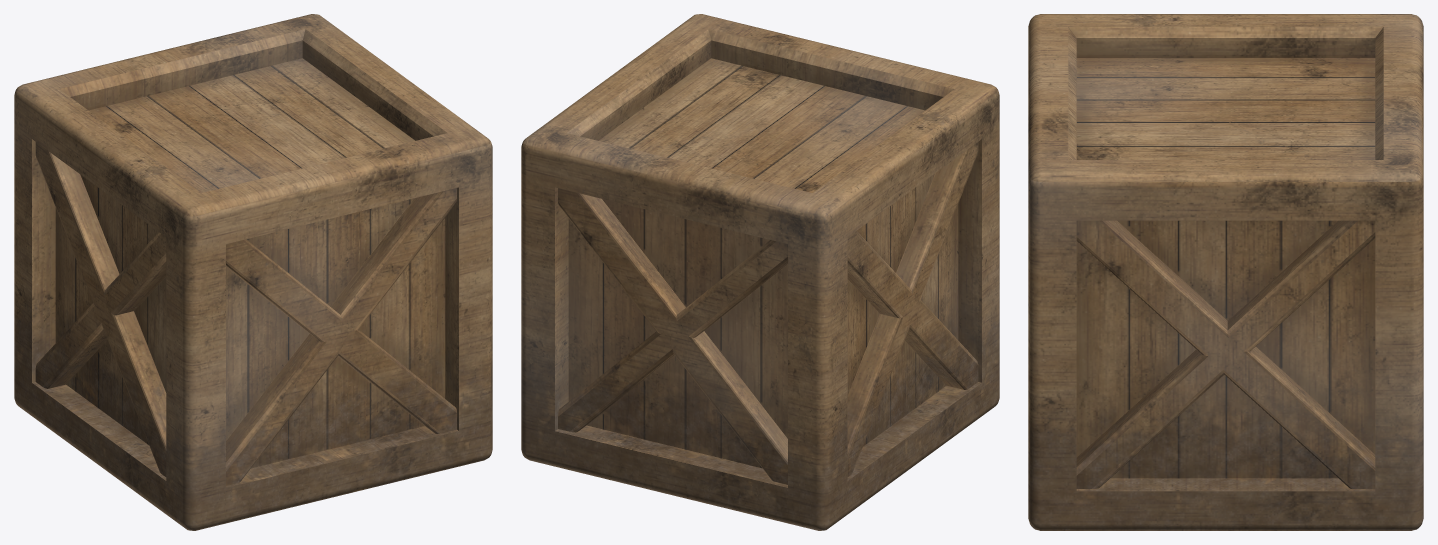
File: Wooden Crate.fbx
The picture shows the model from 3 angles, left to right: view 1: azimuth 30°, elevation 25°; view 2: azimuth 150°, elevation 25°; view 3: azimuth 270°, elevation 25°; orthographic projection. The views are drawn at different scales.
Visible parts, largest first — view 1: Crate; view 2: Crate; view 3: Crate.
Part boxes in pixels (<box>): Crate: <box>14,14,492,530</box>; Crate: <box>521,14,999,530</box>; Crate: <box>1028,14,1423,530</box>.
Bounding box in the file's own units: 500 × 500 × 500.
